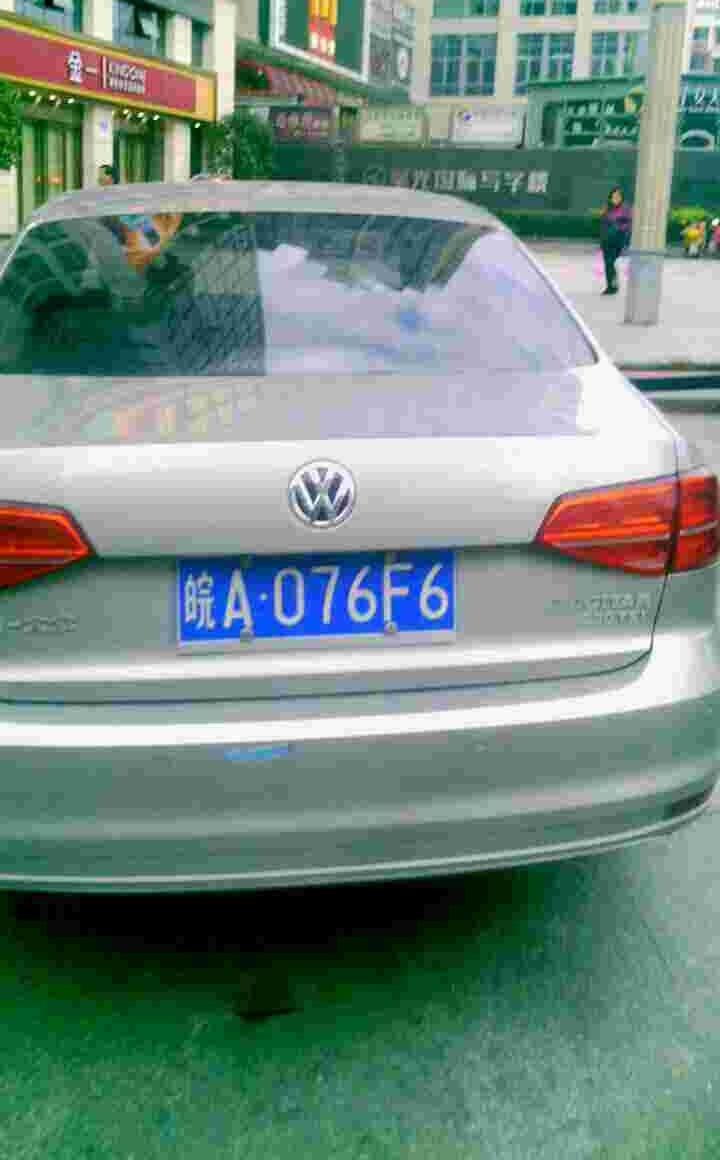license_plate: (176, 553, 473, 645)
